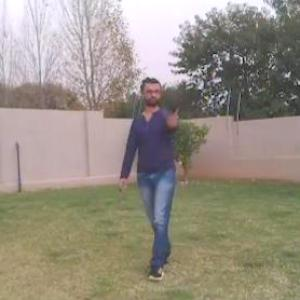takeoff-hand: (160, 97, 184, 135)
